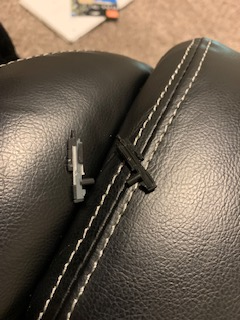rifle: (109, 132, 157, 198), (62, 128, 97, 205)
